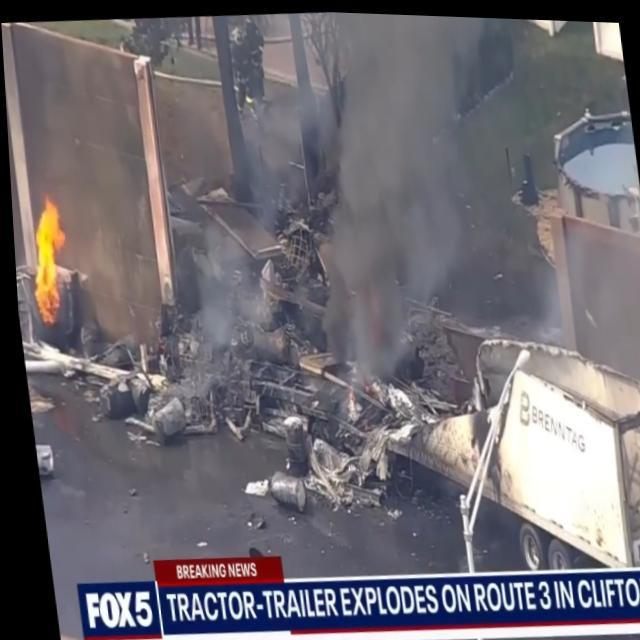fire: (14, 187, 76, 326)
